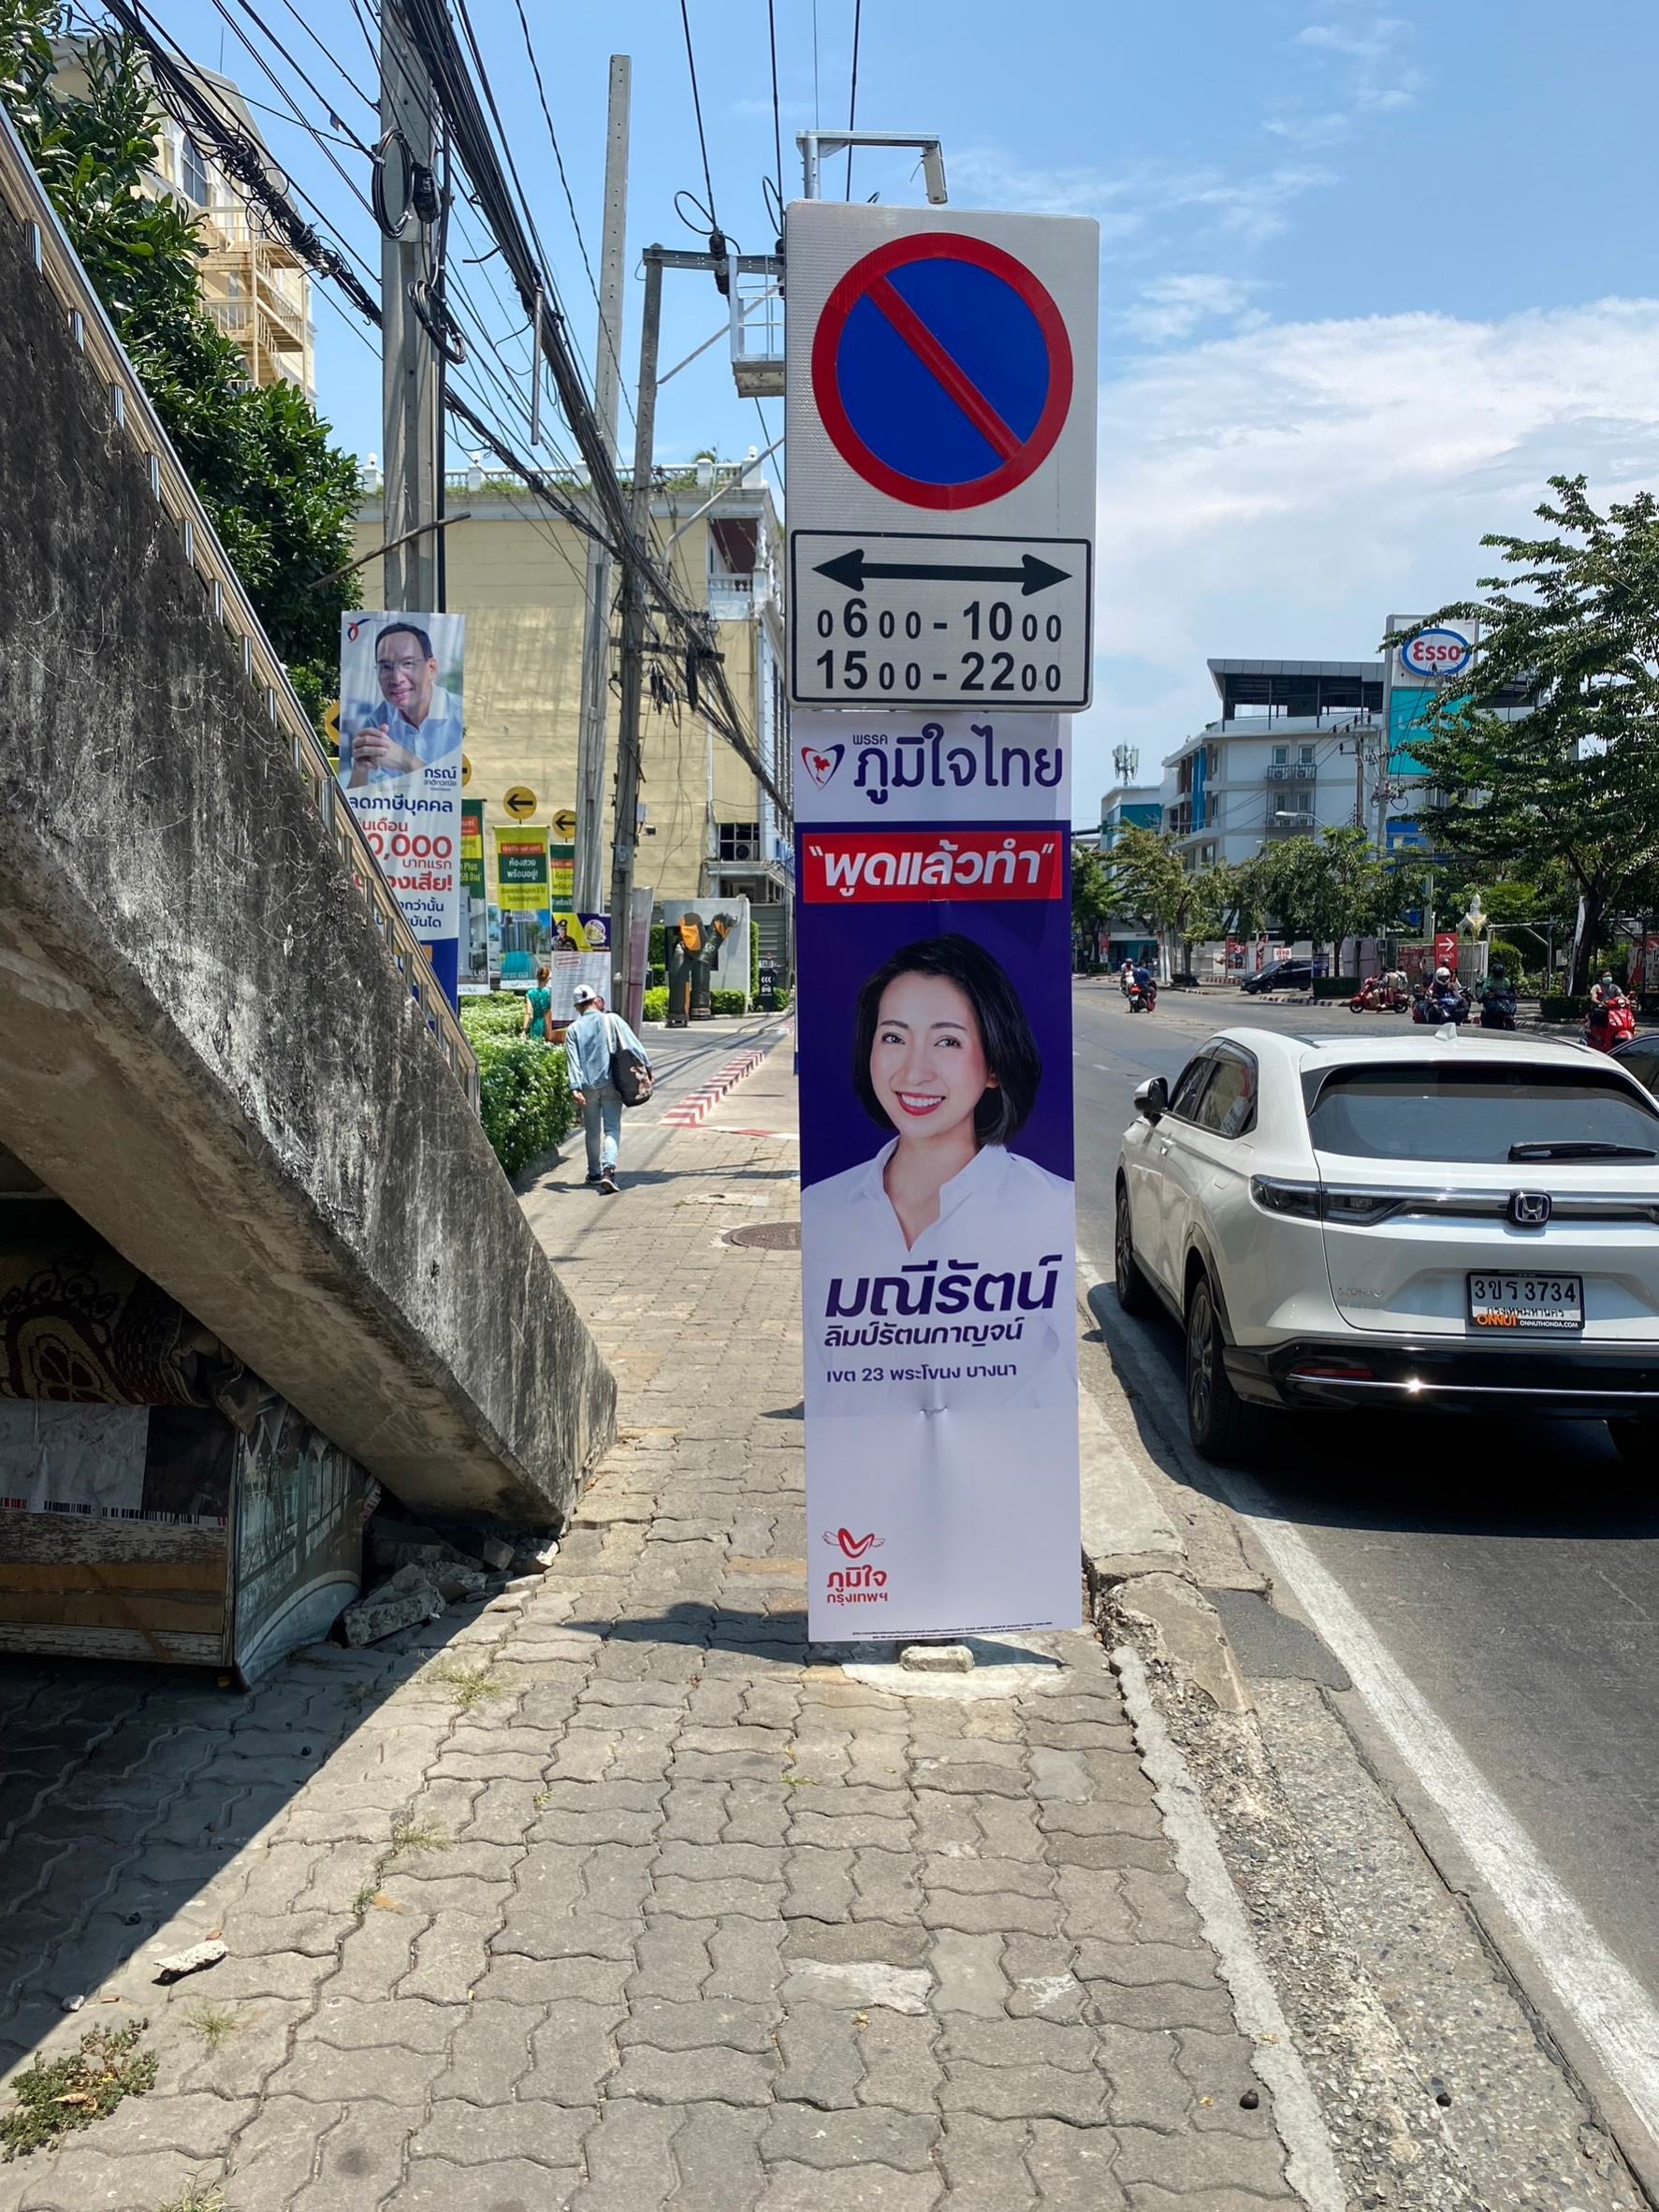Banner: (777, 698, 1115, 1642)
